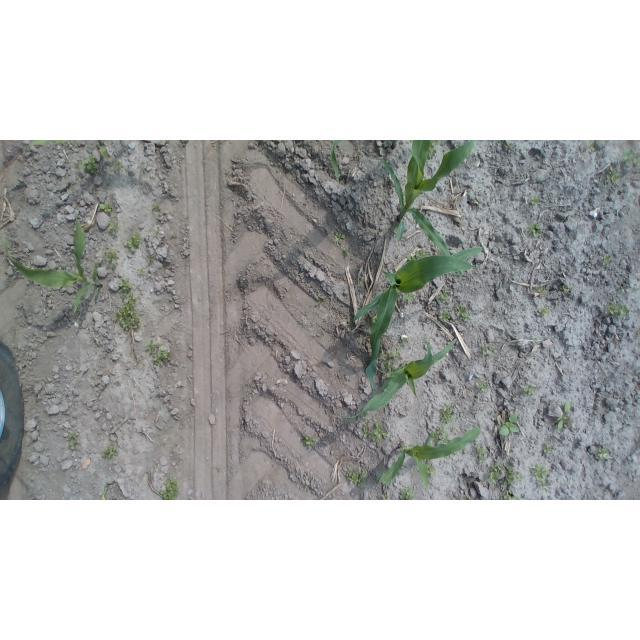Maize: (353, 246, 484, 390), (380, 140, 477, 278), (2, 210, 102, 317), (331, 338, 457, 420), (379, 426, 481, 493), (21, 141, 69, 162), (330, 141, 341, 182), (98, 141, 111, 160)
Weeds: (114, 293, 140, 331), (529, 461, 552, 493), (144, 340, 171, 365), (159, 473, 179, 500), (362, 421, 389, 441), (77, 154, 100, 175), (347, 467, 369, 488), (500, 413, 520, 435), (487, 460, 505, 484), (605, 303, 630, 320), (558, 402, 572, 431), (432, 423, 450, 444), (118, 277, 134, 299), (505, 465, 523, 484), (623, 150, 640, 170), (605, 165, 622, 185), (128, 231, 145, 251), (438, 405, 455, 424), (526, 219, 543, 237), (101, 443, 119, 460), (101, 248, 120, 264), (67, 429, 80, 452), (474, 441, 487, 463), (382, 349, 403, 362), (456, 305, 472, 322), (398, 484, 415, 500), (300, 435, 317, 449), (500, 489, 521, 500), (438, 288, 450, 304), (108, 220, 119, 237), (475, 380, 489, 393), (439, 308, 451, 322), (382, 363, 393, 378), (523, 385, 538, 396), (598, 447, 610, 460), (427, 146, 437, 161), (543, 441, 555, 453), (152, 202, 163, 215), (99, 203, 113, 212), (102, 484, 109, 500), (335, 233, 346, 243), (531, 196, 542, 206), (603, 254, 612, 266), (428, 463, 437, 475), (539, 306, 552, 314), (588, 140, 596, 152), (146, 255, 155, 265), (114, 160, 122, 171), (137, 268, 148, 276), (402, 293, 414, 300), (398, 337, 410, 344), (537, 286, 547, 294), (489, 344, 497, 354), (632, 287, 639, 298), (316, 298, 324, 307), (343, 247, 350, 257), (505, 140, 513, 148), (482, 345, 488, 355), (430, 140, 440, 145), (370, 317, 377, 324), (380, 494, 388, 500), (153, 230, 159, 238), (303, 484, 309, 492), (361, 413, 368, 419), (178, 364, 186, 369), (621, 285, 627, 291), (563, 285, 568, 292), (460, 496, 468, 500), (249, 391, 254, 397), (304, 311, 310, 316), (306, 253, 311, 259), (452, 426, 456, 433), (383, 181, 388, 186), (142, 364, 147, 369), (480, 497, 487, 500), (144, 166, 149, 170)
